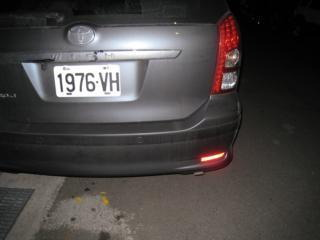plate: (52, 62, 122, 99)
